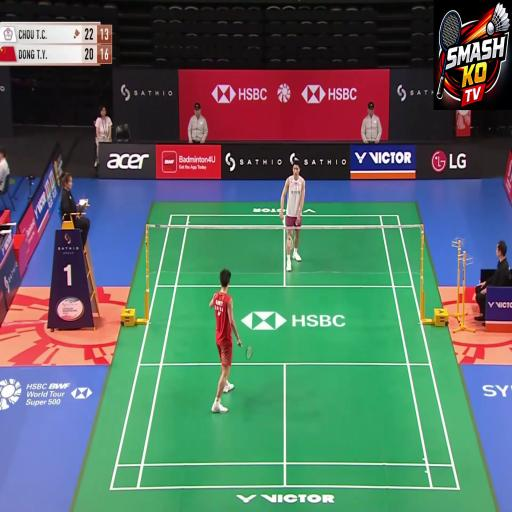player: (201, 274, 244, 401), (284, 138, 314, 282)
